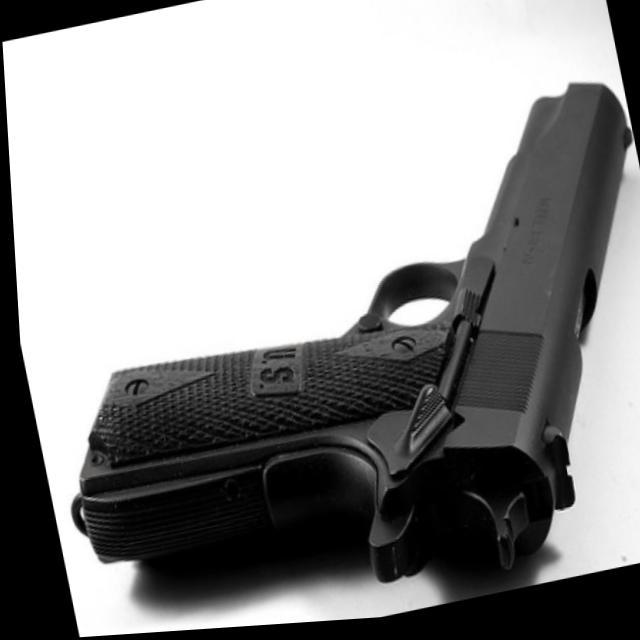weapon: (5, 75, 640, 640)
